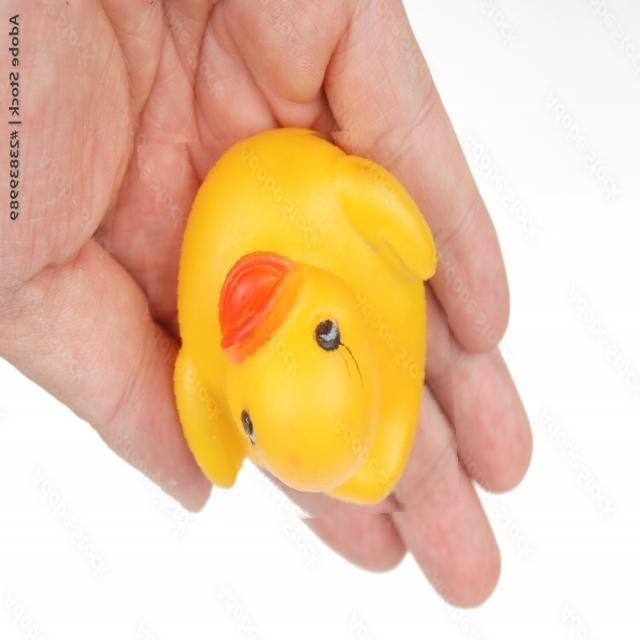rubber-duck: (174, 128, 434, 501)
